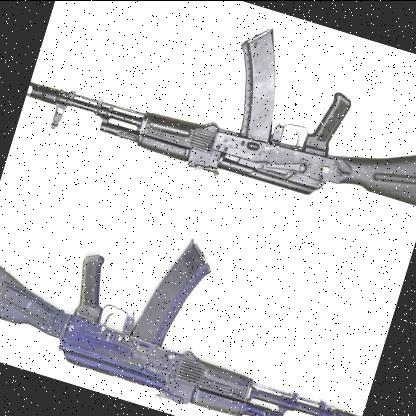rifle: (8, 0, 416, 273), (0, 173, 399, 416)
